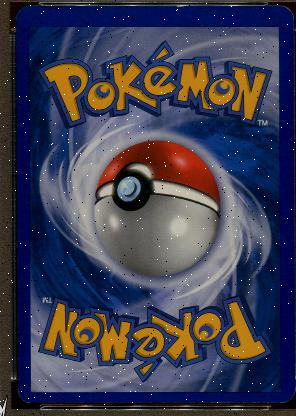Card: (13, 4, 293, 408)
Corner Wear: (275, 384, 293, 404), (275, 5, 294, 21), (16, 388, 31, 404)
Edge Wear: (161, 401, 274, 403), (171, 4, 188, 8)
